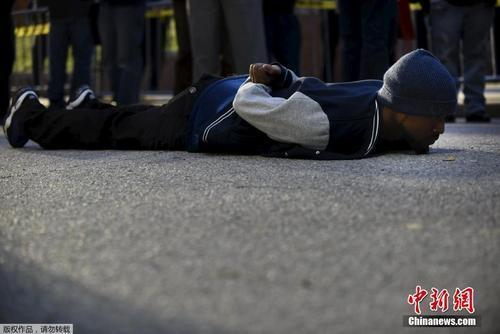Fall-Detected: (0, 53, 461, 162)
